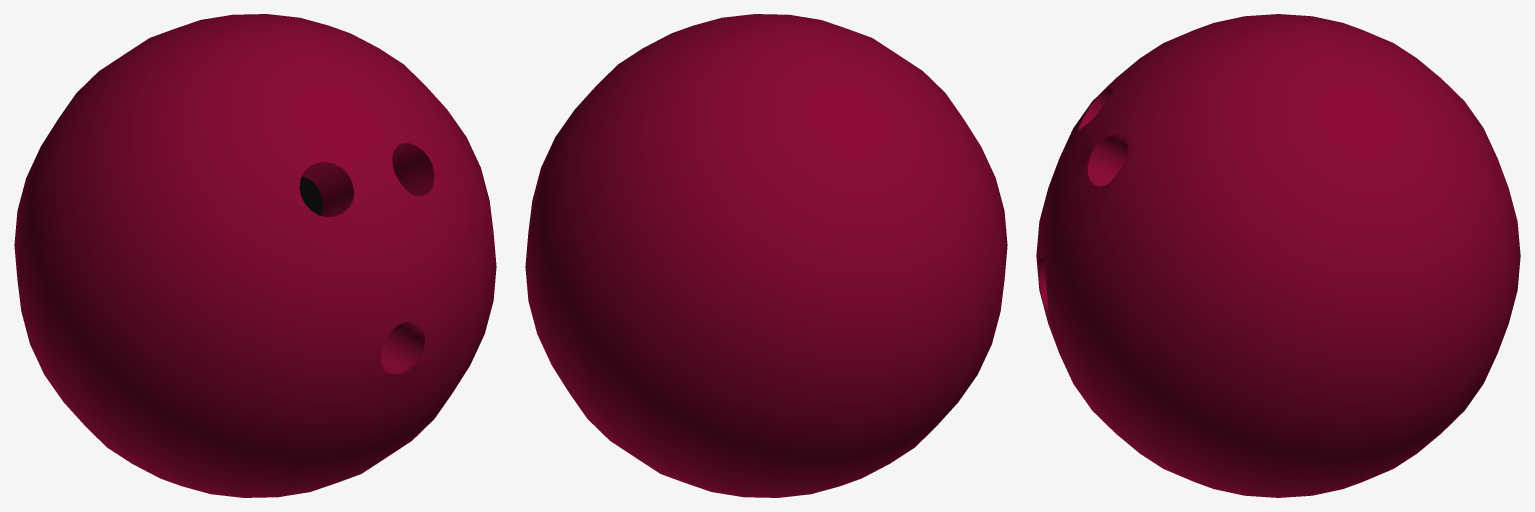
Rendered from sm_BowlingRed.fbx.
3 renders of one model, left to right at view 1: azimuth 30°, elevation 25°; view 2: azimuth 150°, elevation 25°; view 3: azimuth 270°, elevation 25°, orthographic.
Parts seen in each view (by area): view 1: Red1; view 2: Red1; view 3: Red1.
Part boxes in pixels (x1,y1,x2,y2): Red1: (14, 14, 496, 497); Red1: (525, 14, 1007, 497); Red1: (1036, 14, 1520, 497).
Bounding box in the file's own units: 200 × 200 × 200.
